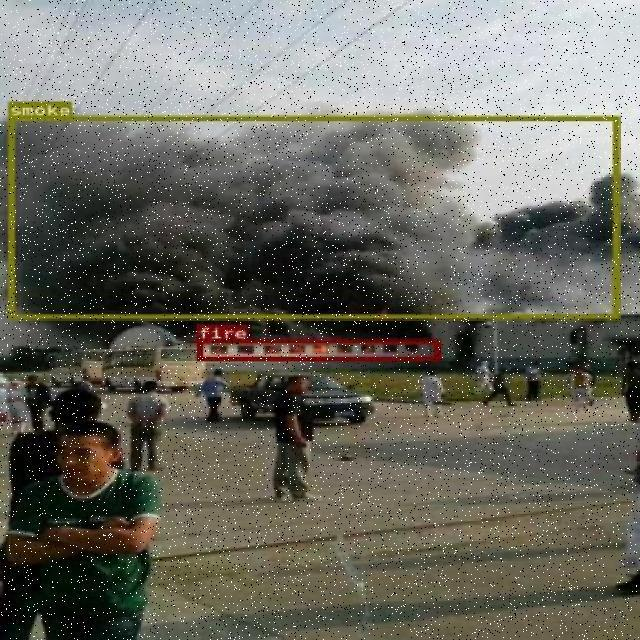Smoke: (8, 115, 617, 318)
